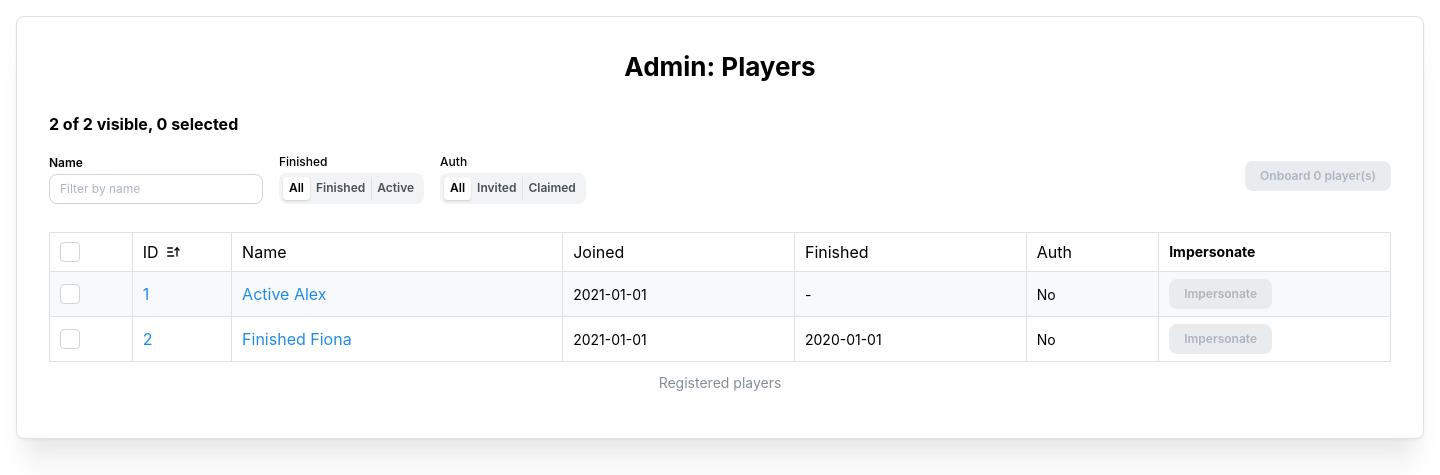
Test: AdminPlayerList › tri-state filters › filters to only active players when Active is selected
The image size is (1440, 475).
Click the radio button labelled "Active".
click(396, 188)  # box [377,180,414,195]
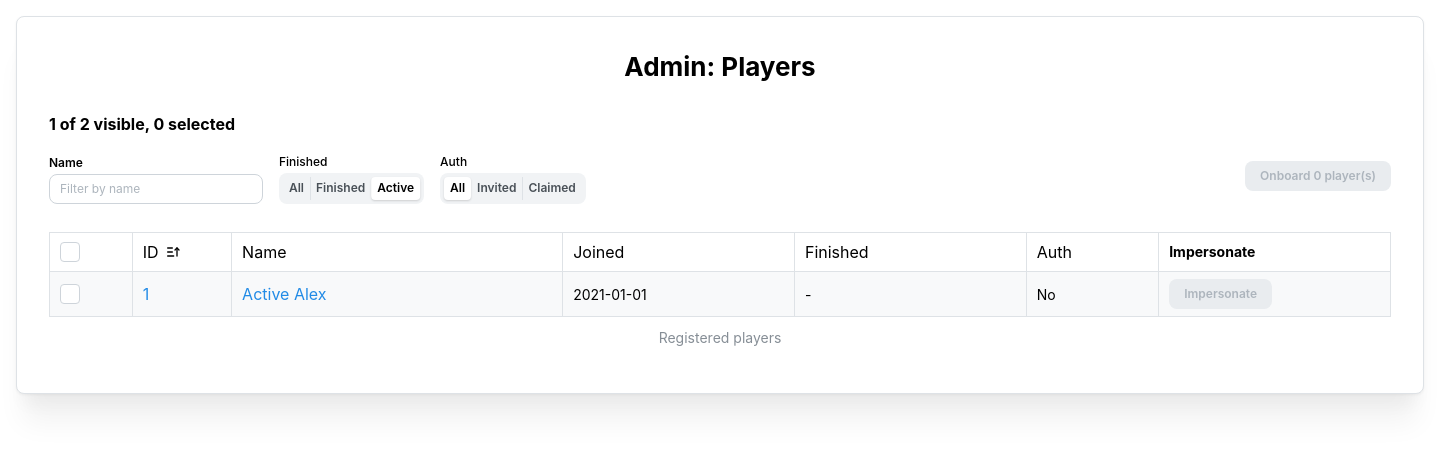
Expected: the link "Active Alex" is shown, [242,284,326,304]
Result: the link "Finished Fiona" is gone
